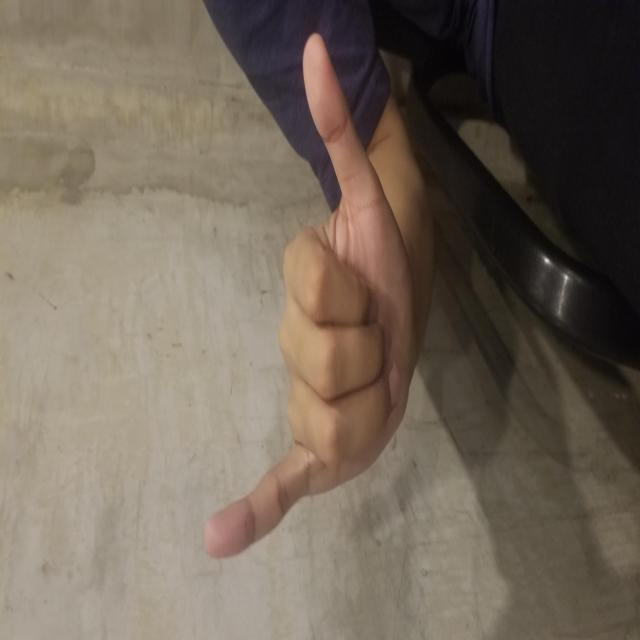Y: (79, 200, 608, 416)
